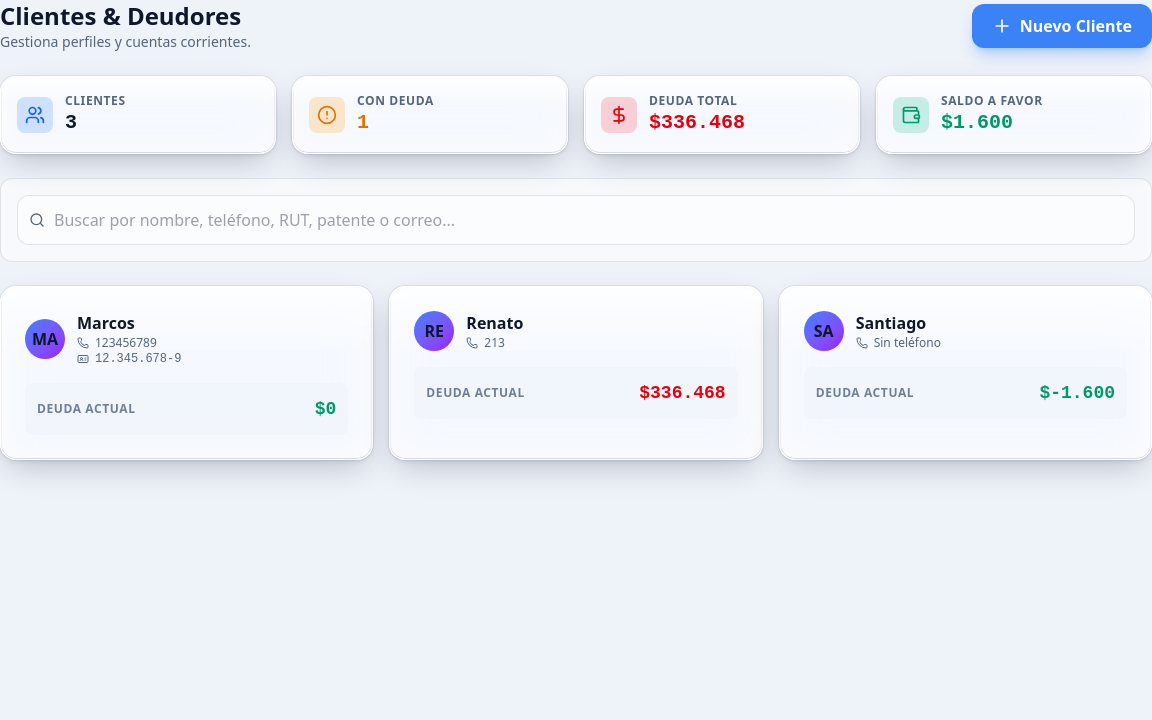
Clientes › no crea sin nombre; Cancelar cierra
The image size is (1152, 720).
Click the button "Nuevo Cliente" at point(1062, 26), box [972, 4, 1151, 48]
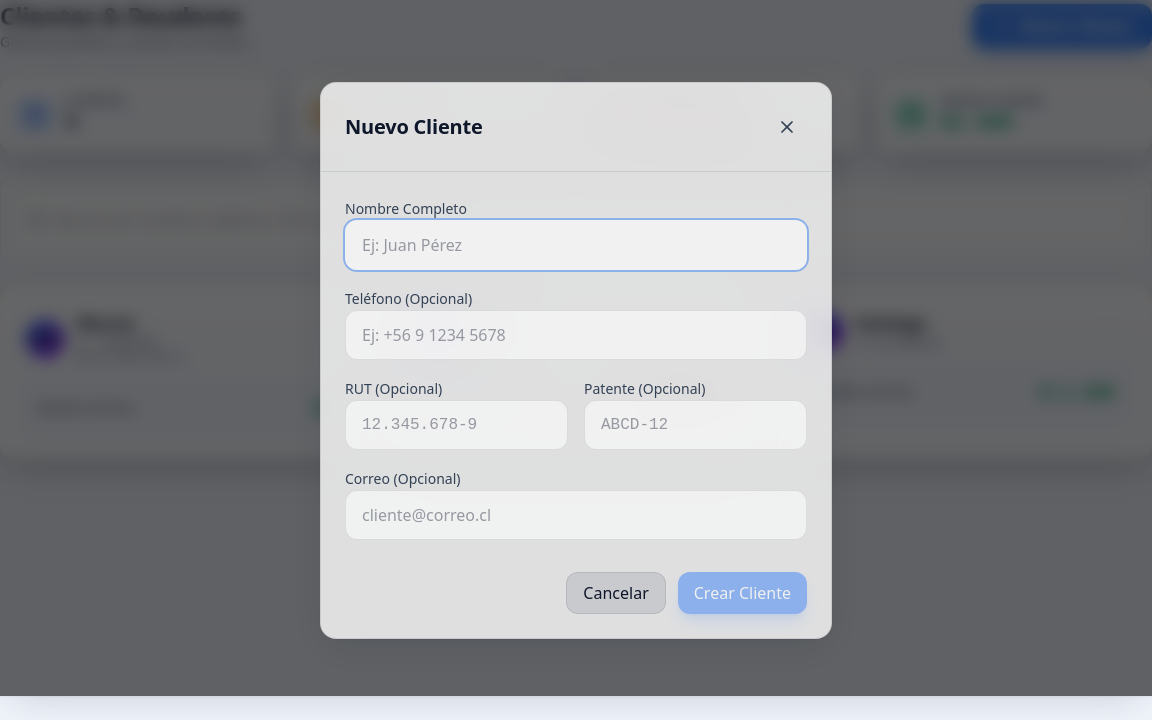
Expected: the button "Crear Cliente" is disabled, [678, 572, 807, 614]
Click the button "Cancelar" at point(616, 592), box [566, 572, 666, 614]
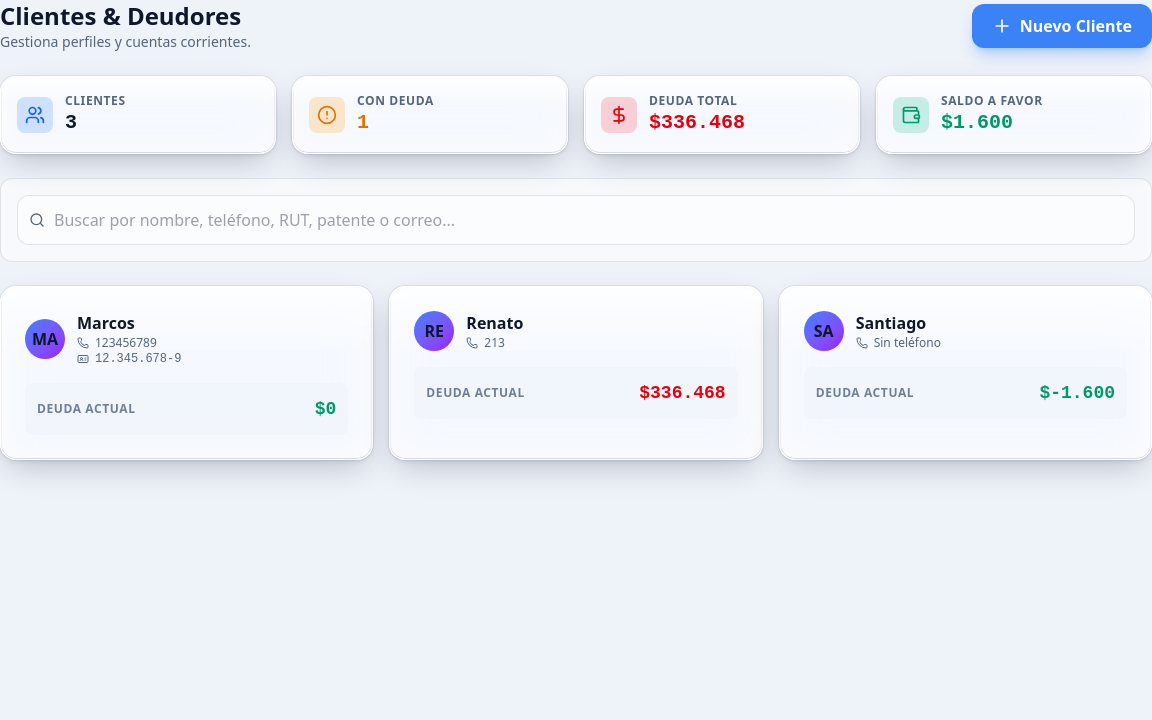
Expected: the dialog is gone
